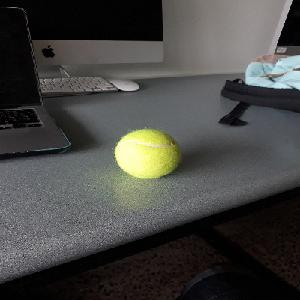Ball: (113, 129, 181, 178)
